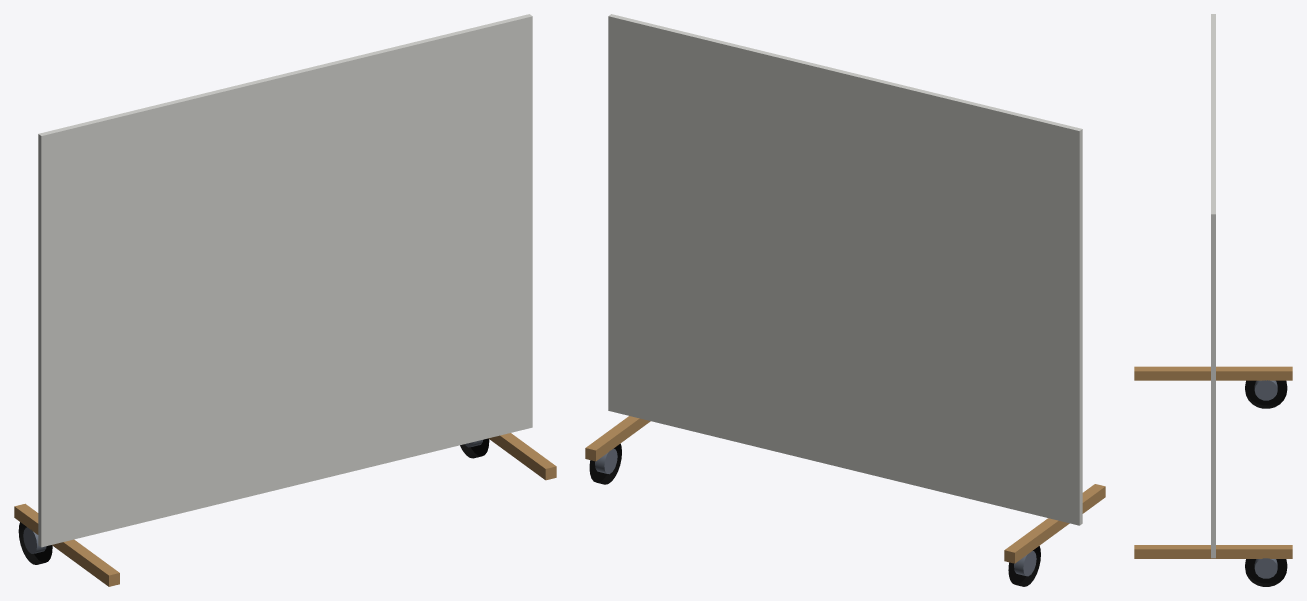
The model's file is sport.pitch.sight_screen.glb.
The picture shows the model from 3 angles, left to right: view 1: azimuth 30°, elevation 25°; view 2: azimuth 150°, elevation 25°; view 3: azimuth 270°, elevation 25°; orthographic projection. The views are drawn at different scales.
Visible parts, largest first — view 1: main__paint_white, main__softwood, main__rubber; view 2: main__paint_white, main__softwood, main__rubber, main__steel_painted; view 3: main__softwood, main__paint_white, main__rubber, main__steel_painted.
Part boxes in pixels (x1,y1,x2,y2): main__paint_white: [38, 14, 532, 547]; main__softwood: [14, 433, 556, 586]; main__rubber: [18, 438, 489, 564]; main__paint_white: [608, 14, 1082, 525]; main__softwood: [585, 416, 1105, 563]; main__rubber: [589, 443, 1040, 586]; main__steel_painted: [595, 448, 1036, 576]; main__softwood: [1134, 366, 1292, 558]; main__paint_white: [1211, 14, 1215, 558]; main__rubber: [1245, 380, 1287, 586]; main__steel_painted: [1254, 380, 1277, 578].
Size of the model in its own units: 4.5 by 4 by 1.5.
